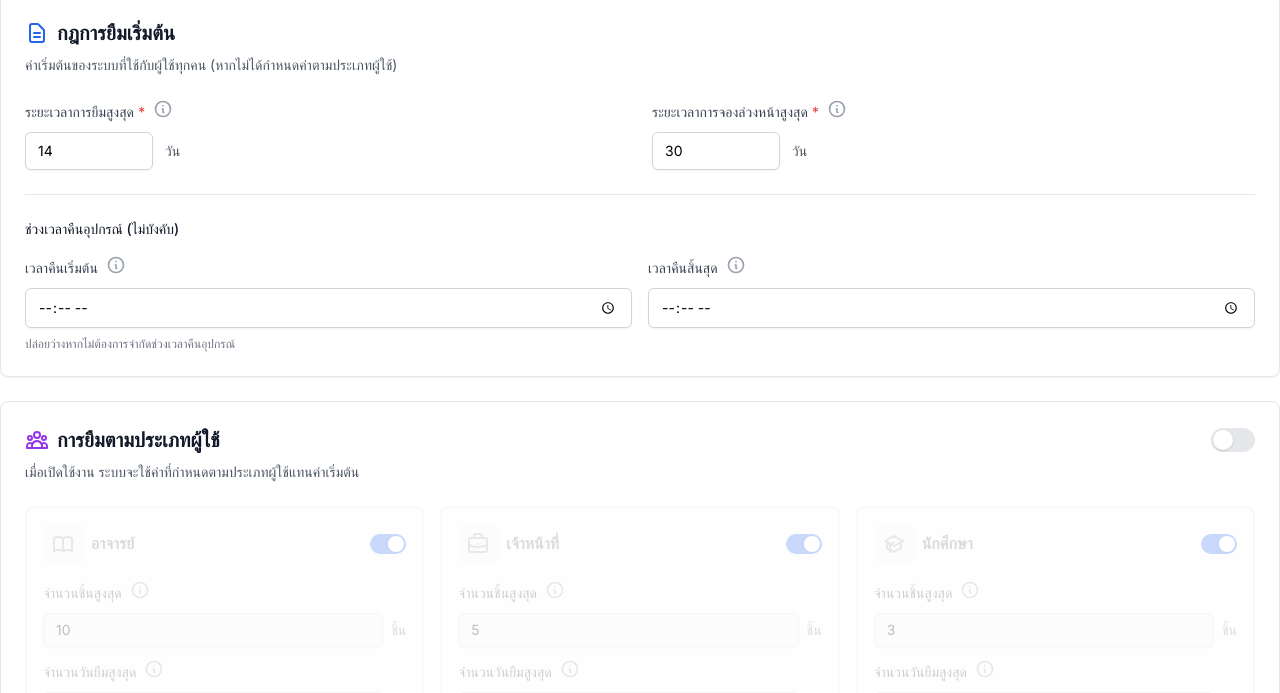
Test: UnifiedLoanSettingsTab Integration Tests › Task 8.2: Save/Load Flow › should display success notification after successful save
This screenshot has width=1280, height=693.
Note: Modify a setting
Replace the text in the number field with id "maxLoanDuration" with "21" at (89, 151), box [25,132,153,170]
(page scrolled)
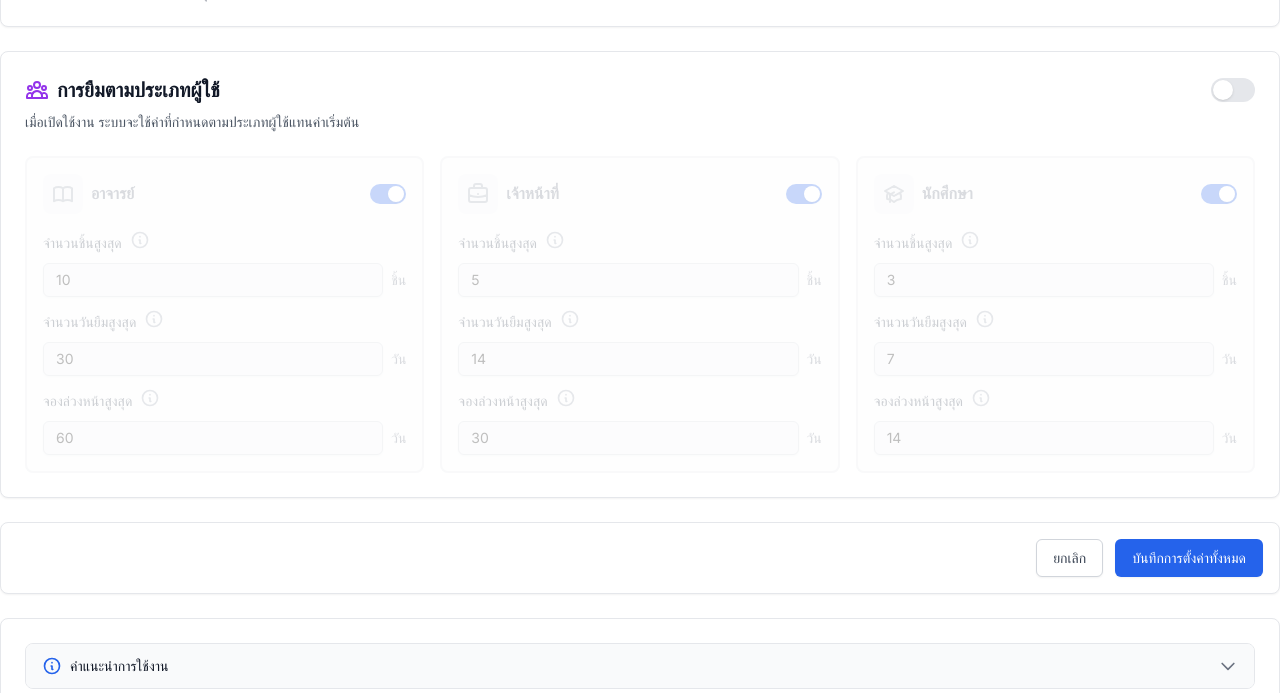
Note: Click save button
Click the button "บันทึกการตั้งค่าทั้งหมด" at (1189, 558), box [1115,539,1263,577]
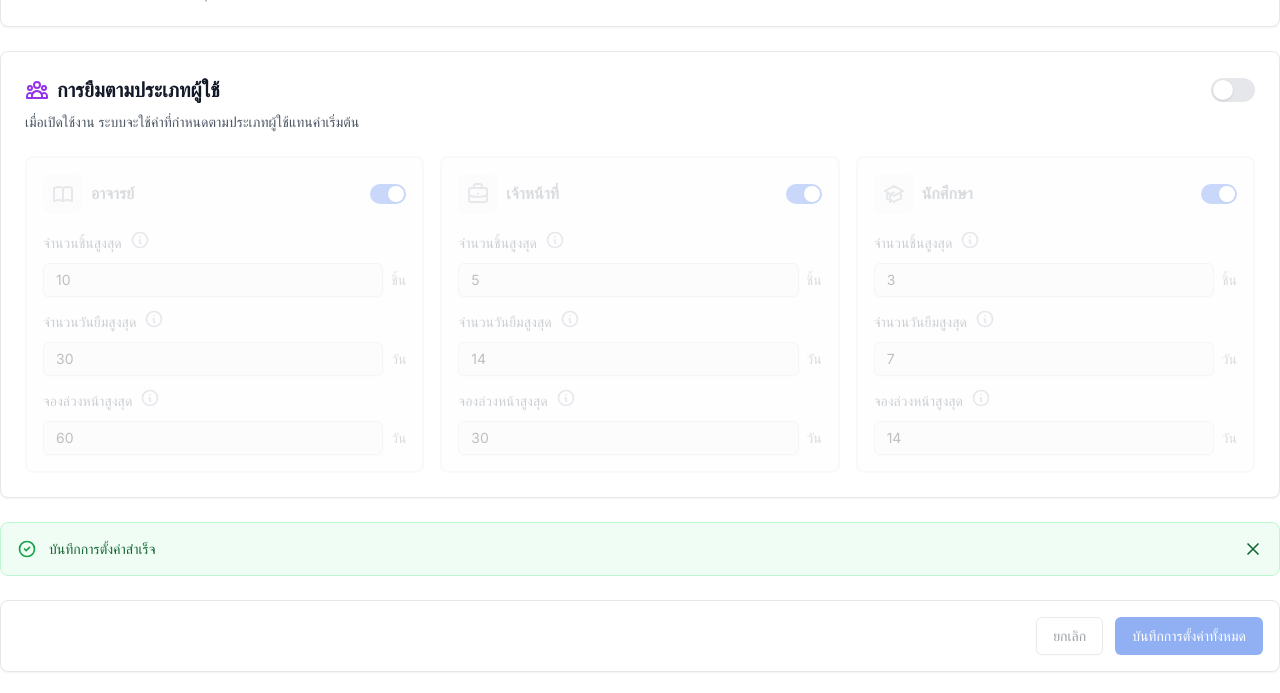
expect the text "บันทึกการตั้งค่าสำเร็จ" is shown: met, box [49,540,156,557]
